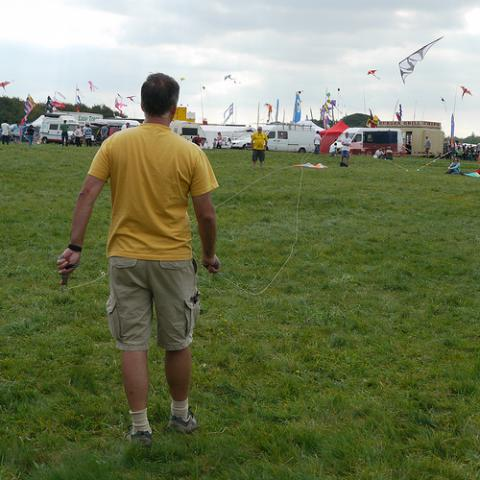bus: (331, 126, 406, 157)
car: (231, 135, 253, 148)
truck: (231, 122, 317, 152), (335, 126, 405, 156), (32, 110, 103, 136), (40, 115, 85, 144)
